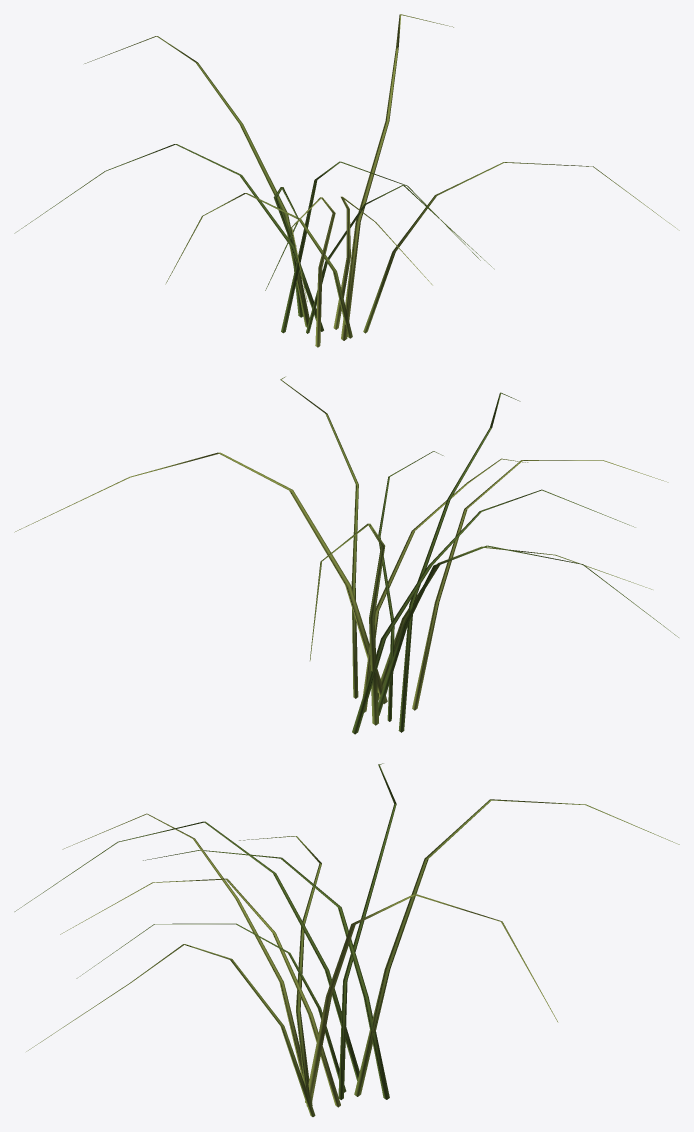
Rendered from filament-2-lod.glb.
The picture shows the model from 3 angles, top to bottom: view 1: azimuth 30°, elevation 25°; view 2: azimuth 150°, elevation 25°; view 3: azimuth 270°, elevation 25°; orthographic projection. The views are drawn at different scales.
Parts seen in each view (by area): view 1: Filament_2_LOD; view 2: Filament_2_LOD; view 3: Filament_2_LOD.
Part boxes in pixels (x1,y1,x2,y2): Filament_2_LOD: [14, 14, 679, 347]; Filament_2_LOD: [14, 376, 678, 734]; Filament_2_LOD: [14, 763, 679, 1116].
Size of the model in its own units: 1.89 by 0.818 by 1.85.
